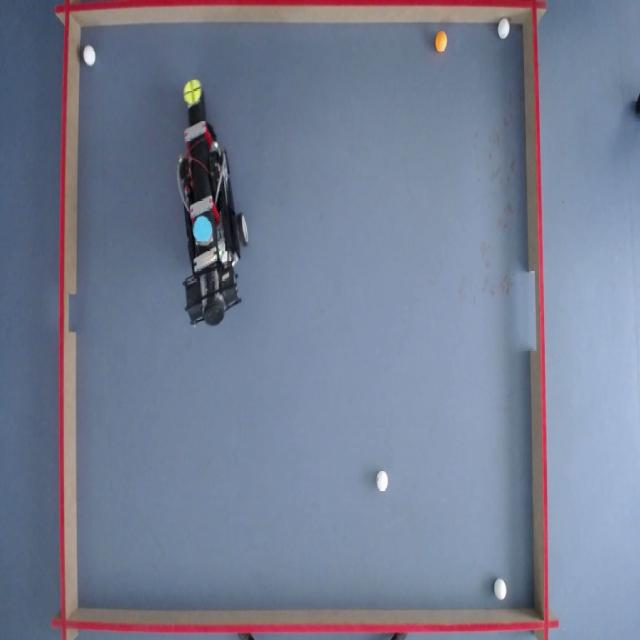orange: (435, 30, 449, 54)
robot: (174, 75, 254, 338)
robot-front: (182, 77, 203, 106)
robot-rear: (190, 213, 212, 246)
white: (495, 578, 509, 601), (498, 18, 512, 39), (83, 46, 96, 68), (376, 470, 389, 492)
